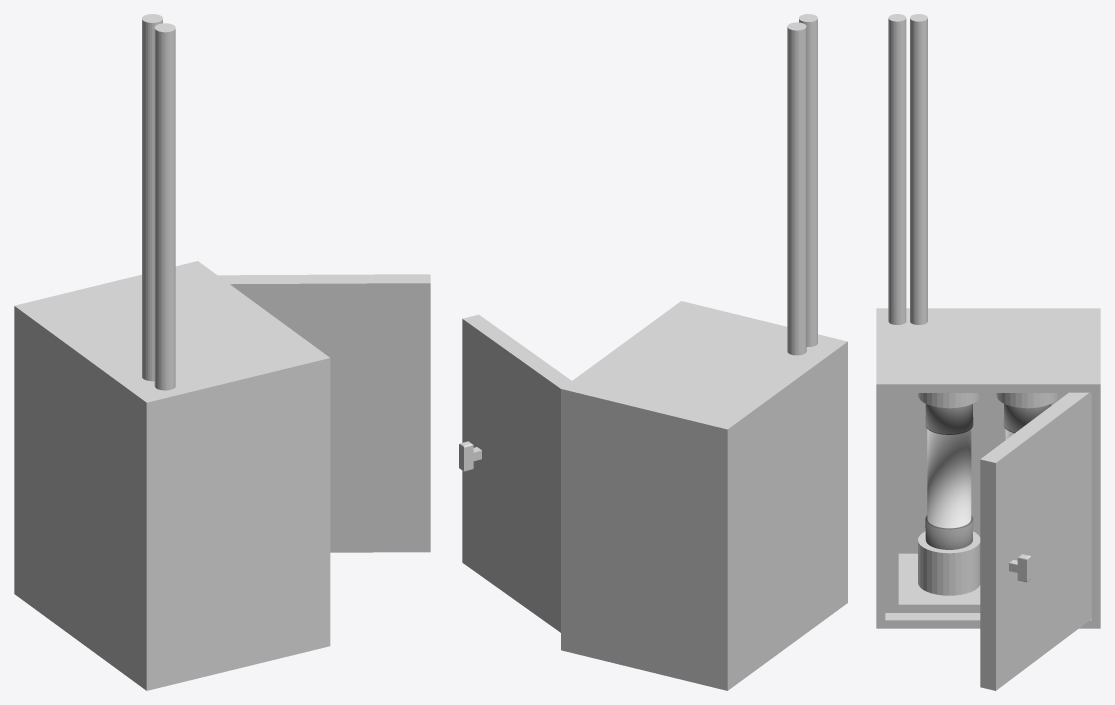
Rendered from fusebox.fbx.
The picture shows the model from 3 angles, left to right: view 1: azimuth 30°, elevation 25°; view 2: azimuth 150°, elevation 25°; view 3: azimuth 270°, elevation 25°; orthographic projection. The views are drawn at different scales.
Parts seen in each view (by area): view 1: Frame, Door, LeftCable, RightCable; view 2: Frame, Door, RightCable, LeftCable; view 3: Frame, Door, LeftFuse, LeftCable, RightCable, BL, RightFuse, TL, TR, Handle.
Part boxes in pixels (x1=…): Frame: x1=14, y1=261, x2=330, y2=690; Door: x1=218, y1=274, x2=430, y2=552; LeftCable: x1=154, y1=23, x2=175, y2=390; RightCable: x1=142, y1=14, x2=162, y2=381; Frame: x1=561, y1=301, x2=847, y2=690; Door: x1=462, y1=314, x2=571, y2=632; RightCable: x1=787, y1=22, x2=806, y2=355; LeftCable: x1=799, y1=14, x2=817, y2=346; Frame: x1=876, y1=308, x2=1100, y2=628; Door: x1=980, y1=392, x2=1091, y2=690; LeftFuse: x1=925, y1=404, x2=973, y2=549; LeftCable: x1=888, y1=14, x2=906, y2=324; RightCable: x1=910, y1=14, x2=927, y2=324; BL: x1=918, y1=531, x2=980, y2=595; RightFuse: x1=1003, y1=404, x2=1051, y2=439; TL: x1=918, y1=393, x2=980, y2=408; TR: x1=996, y1=393, x2=1058, y2=408; Handle: x1=1009, y1=554, x2=1031, y2=582.
Size of the model in its own units: 386 by 673 by 250.
